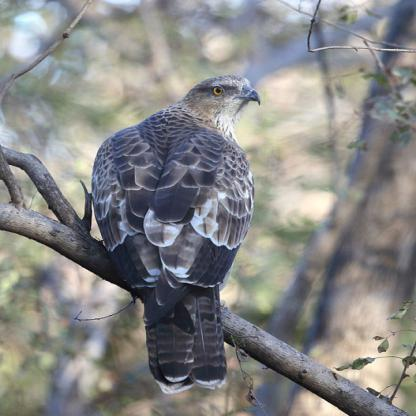Burung: (84, 76, 268, 400)
